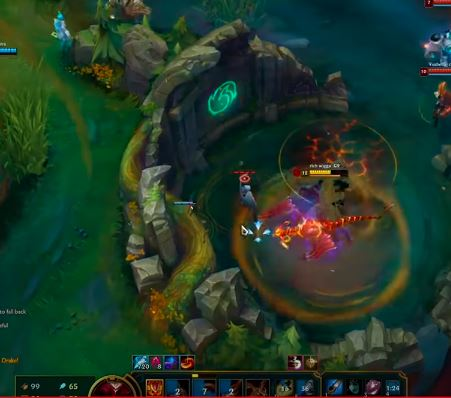bar: (299, 166, 351, 179), (418, 65, 451, 78), (1, 46, 21, 58), (423, 1, 451, 9)
